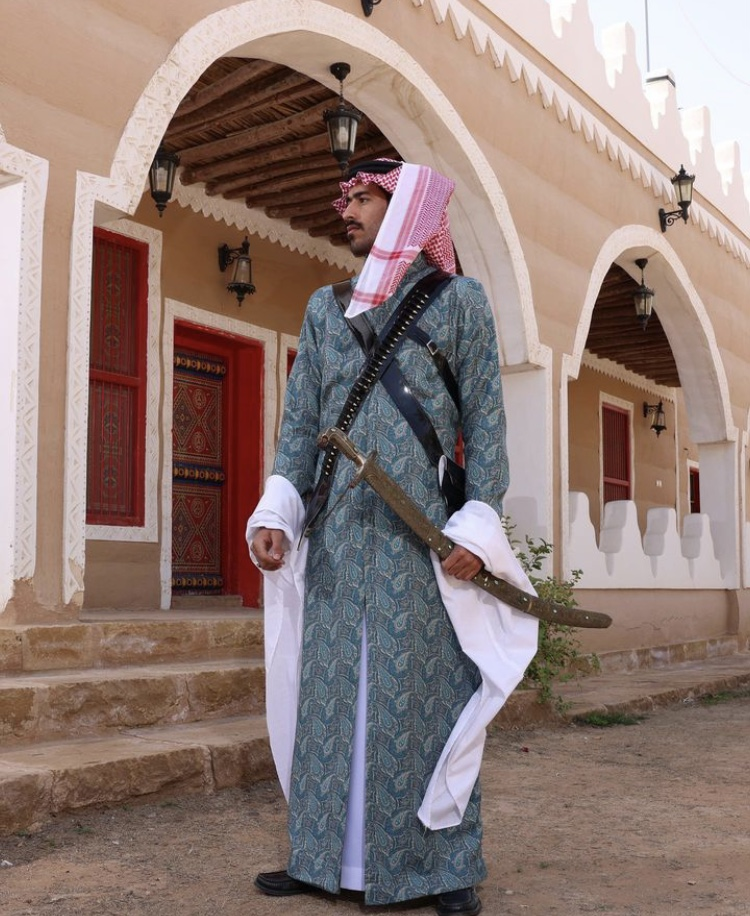Saudi_Founding_Day: (240, 152, 618, 916)
